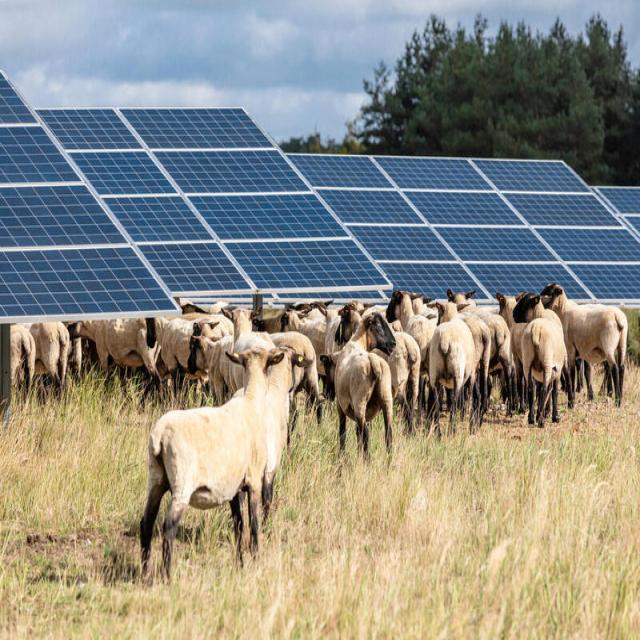clean-solar-panel: (1, 71, 640, 324)
